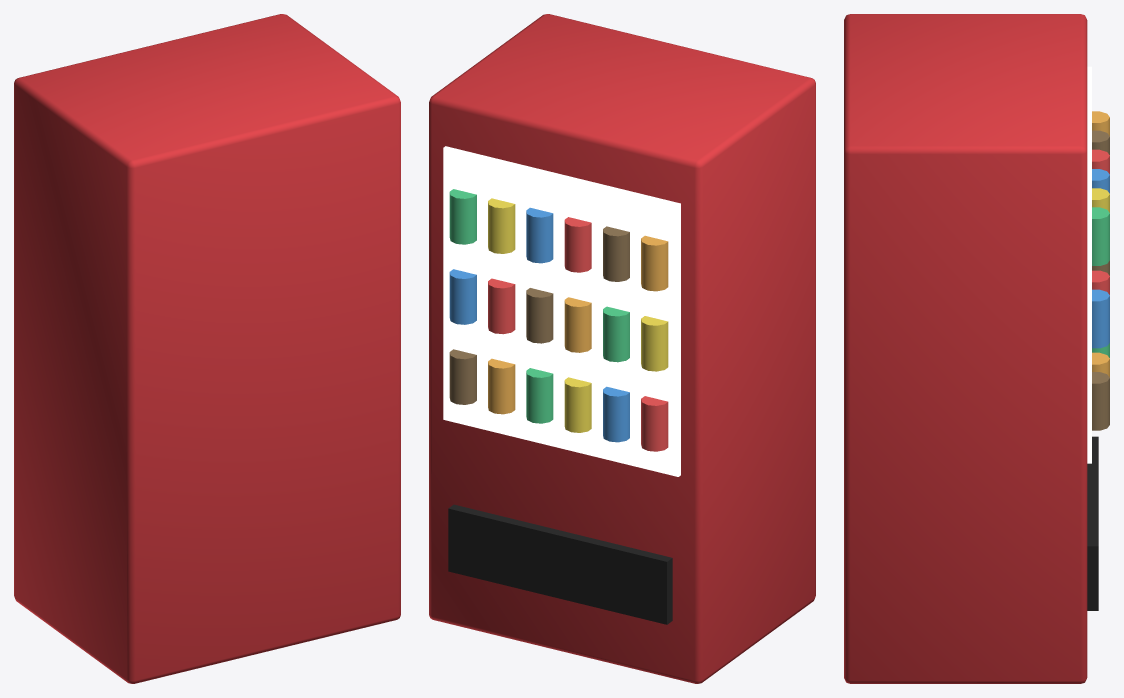
Rendered from vending.glb.
3 renders of one model, left to right at view 1: azimuth 30°, elevation 25°; view 2: azimuth 150°, elevation 25°; view 3: azimuth 270°, elevation 25°, orthographic. The views are drawn at different scales.
Visible parts, largest first — view 1: Body; view 2: Body, Light_Panel, Cans, Slot; view 3: Body, Cans, Light_Panel, Slot.
Boxes of the visible parts, bbox=[...] form: Body: bbox=[14, 14, 400, 683]; Body: bbox=[429, 14, 815, 683]; Light_Panel: bbox=[443, 146, 680, 476]; Cans: bbox=[449, 189, 668, 451]; Slot: bbox=[448, 504, 672, 624]; Body: bbox=[844, 14, 1087, 683]; Cans: bbox=[1092, 111, 1109, 430]; Light_Panel: bbox=[1087, 66, 1091, 463]; Slot: bbox=[1087, 436, 1098, 610].
Bounding box in the file's own units: 1 × 1.83 × 0.82.
